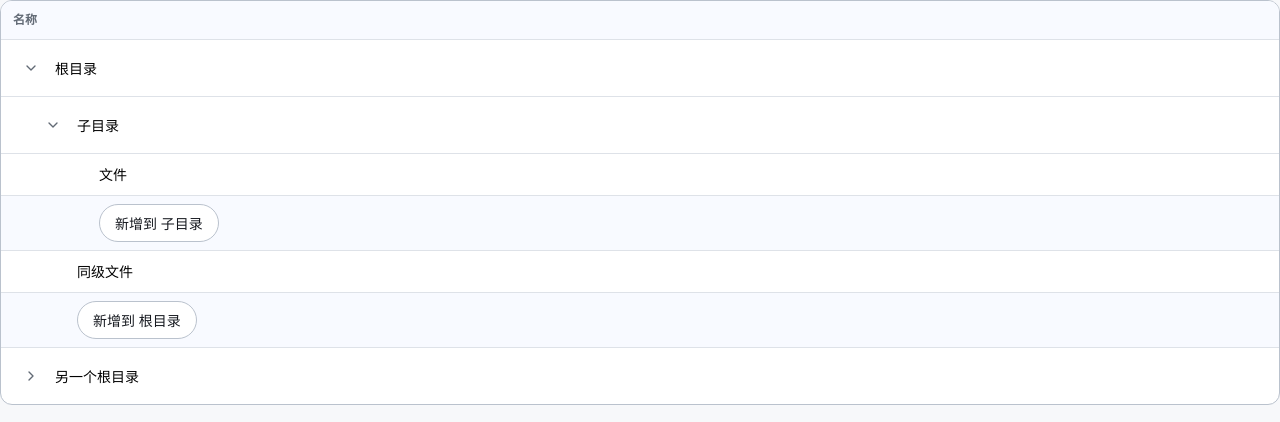
it: TreeTable action regions › places each expanded branch action after all its descendants and removes it on collapse
Expected: the row "文件" is shown, [1,154,1279,196]
Expected: the button "新增到 子目录" is shown, [99,204,219,242]
Click the button named "折叠 根目录": [31, 68] box [13,50,49,86]
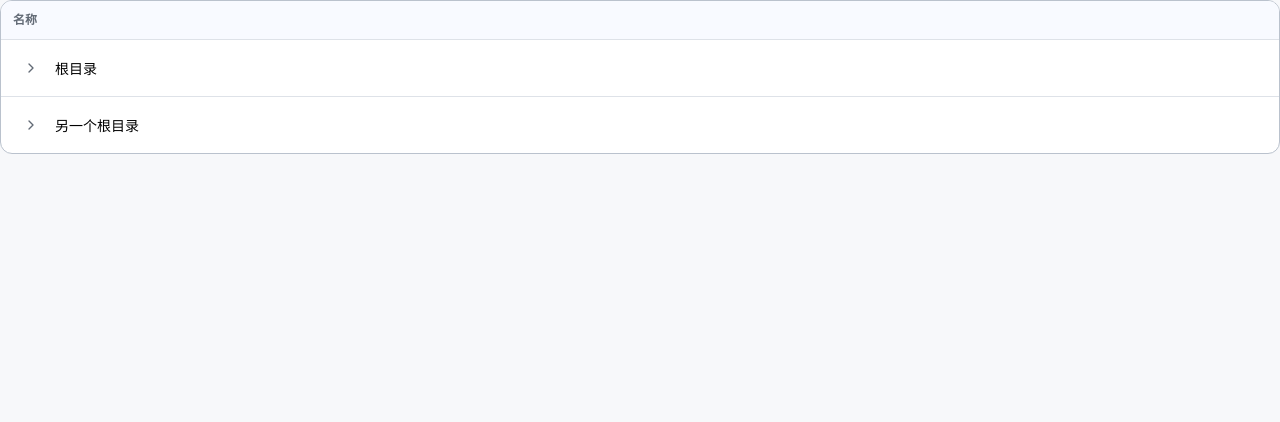
Expected: the button "新增到 根目录" is gone
Expected: the button "新增到 子目录" is gone
Expected: the number of rows is 3, [1,1,1279,40]; [1,40,1279,96]; [1,96,1279,153]
